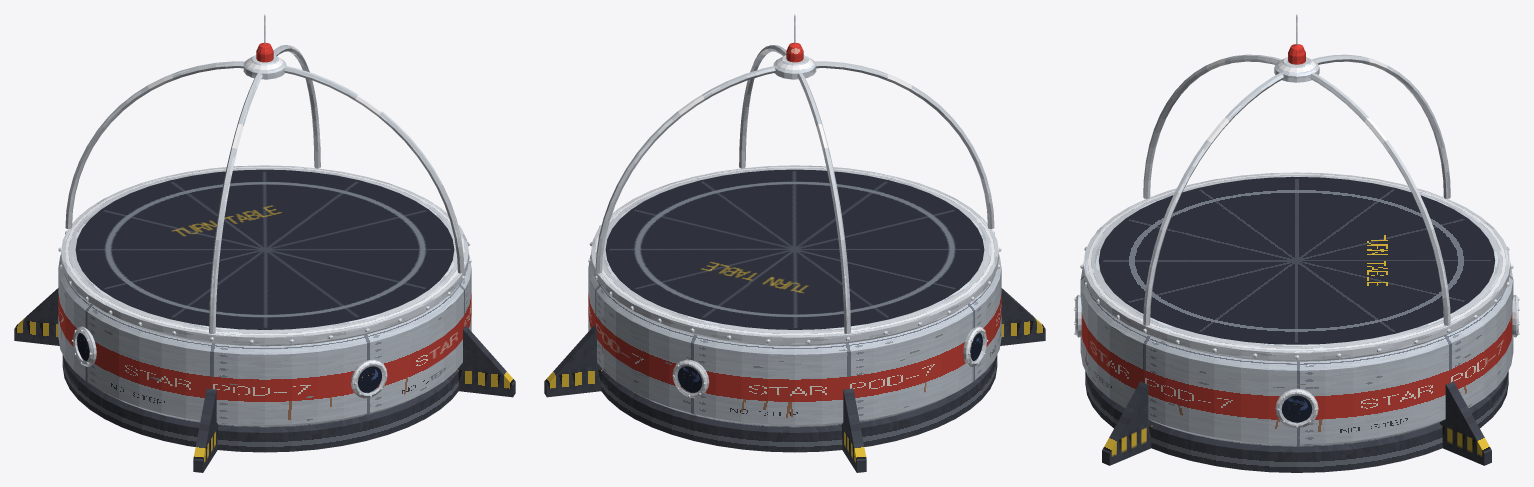
Rendered from pod2_own.glb.
The picture shows the model from 3 angles, left to right: view 1: azimuth 30°, elevation 25°; view 2: azimuth 150°, elevation 25°; view 3: azimuth 270°, elevation 25°; orthographic projection. The views are drawn at different scales.
Parts seen in each view (by area): view 1: lathe; view 2: lathe; view 3: lathe.
Part boxes in pixels (x1,y1,x2,y2): lathe: (14, 14, 515, 472); lathe: (544, 14, 1045, 472); lathe: (1074, 14, 1519, 472).
Size of the model in its own units: 0.989 by 0.905 by 0.989.
Materials: 6 (6 with a texture image).
